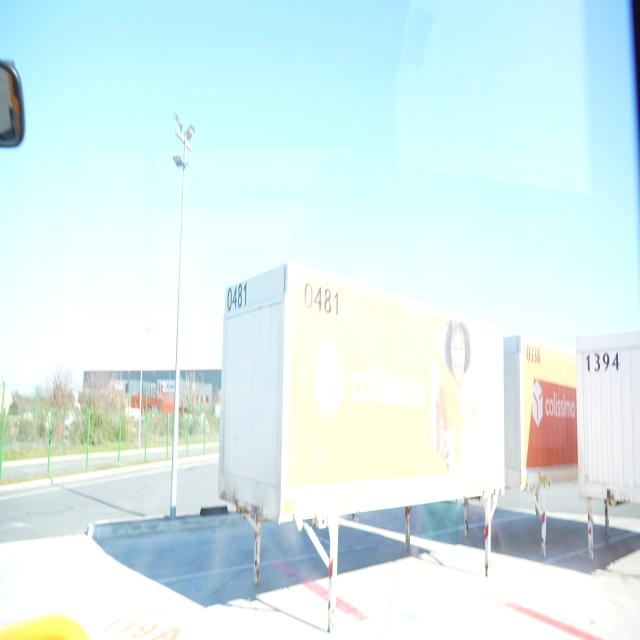Code: (298, 271, 343, 324), (580, 347, 622, 377), (224, 278, 252, 319), (522, 338, 541, 370)
